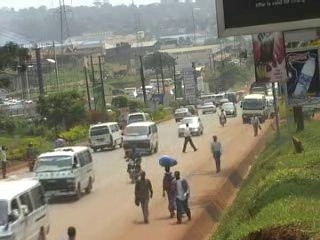Car: (175, 114, 206, 139), (174, 104, 194, 123), (219, 100, 238, 118), (198, 101, 218, 116), (187, 102, 199, 116), (217, 96, 230, 106)
Motorcycle: (121, 154, 148, 184), (217, 112, 229, 127)
